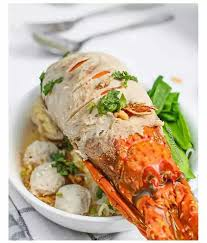bakso: (28, 55, 183, 224)
